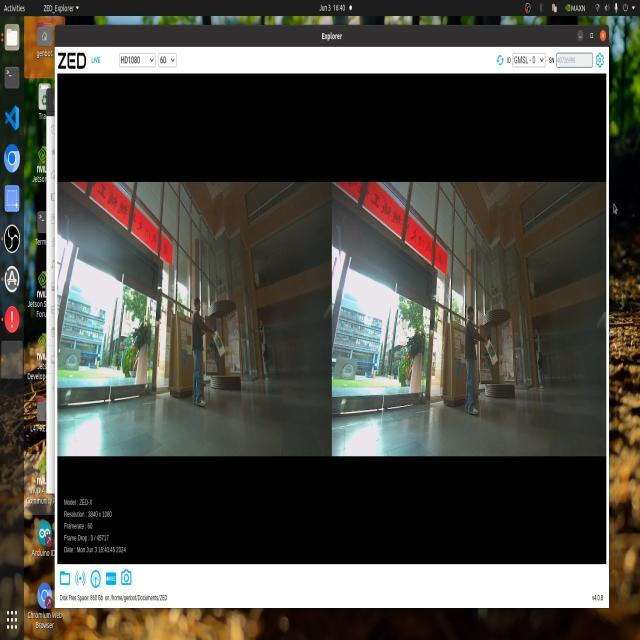green: (214, 332, 224, 355), (488, 344, 497, 365)
